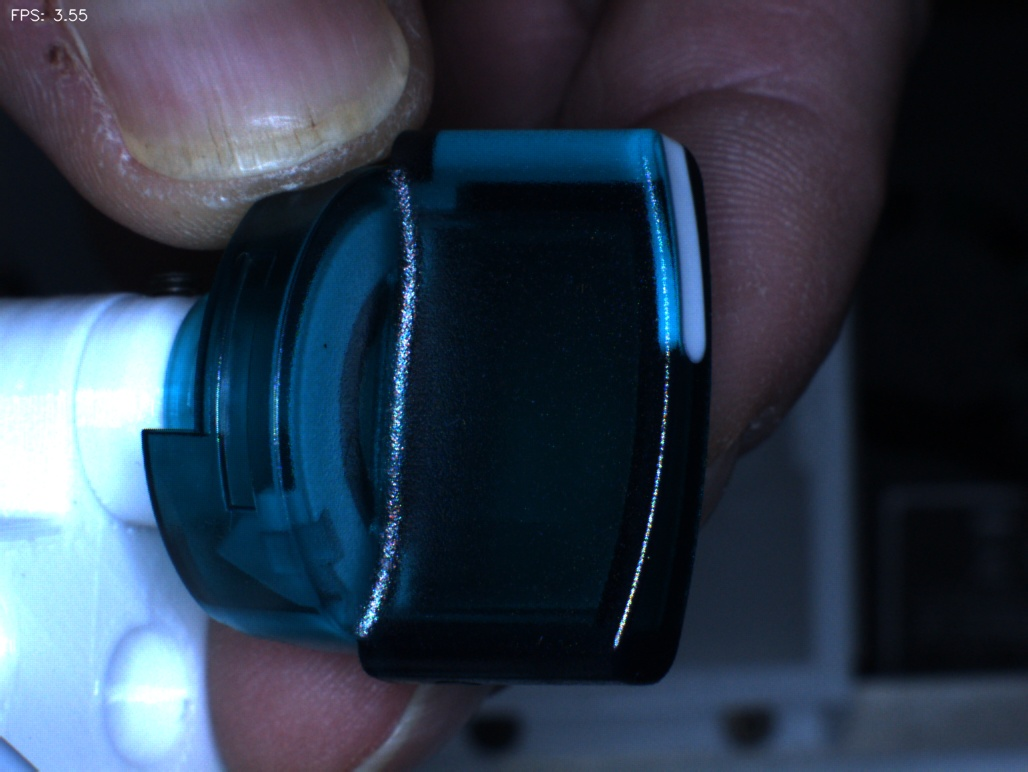PointNoir: (297, 309, 359, 387)
